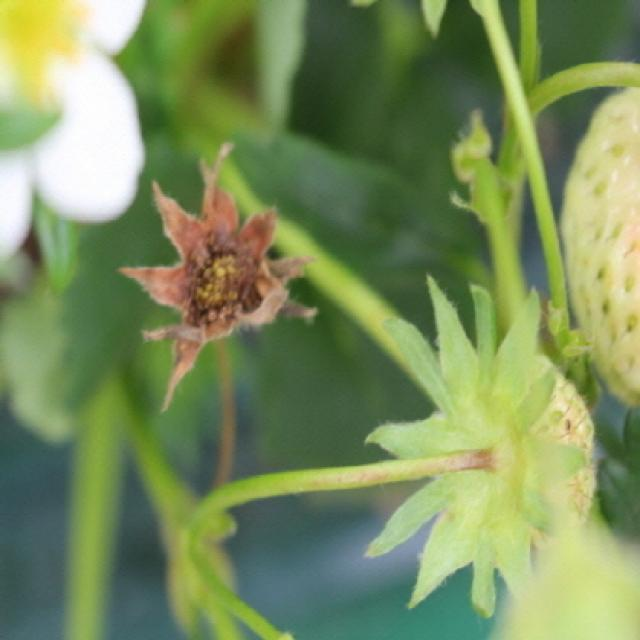Gray Mold: (115, 141, 319, 415)
